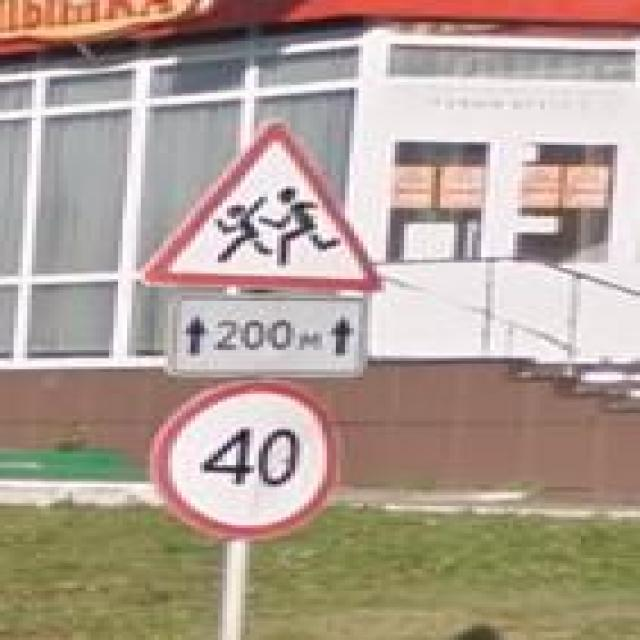traffic_sign: (141, 118, 381, 290), (150, 378, 345, 542)
